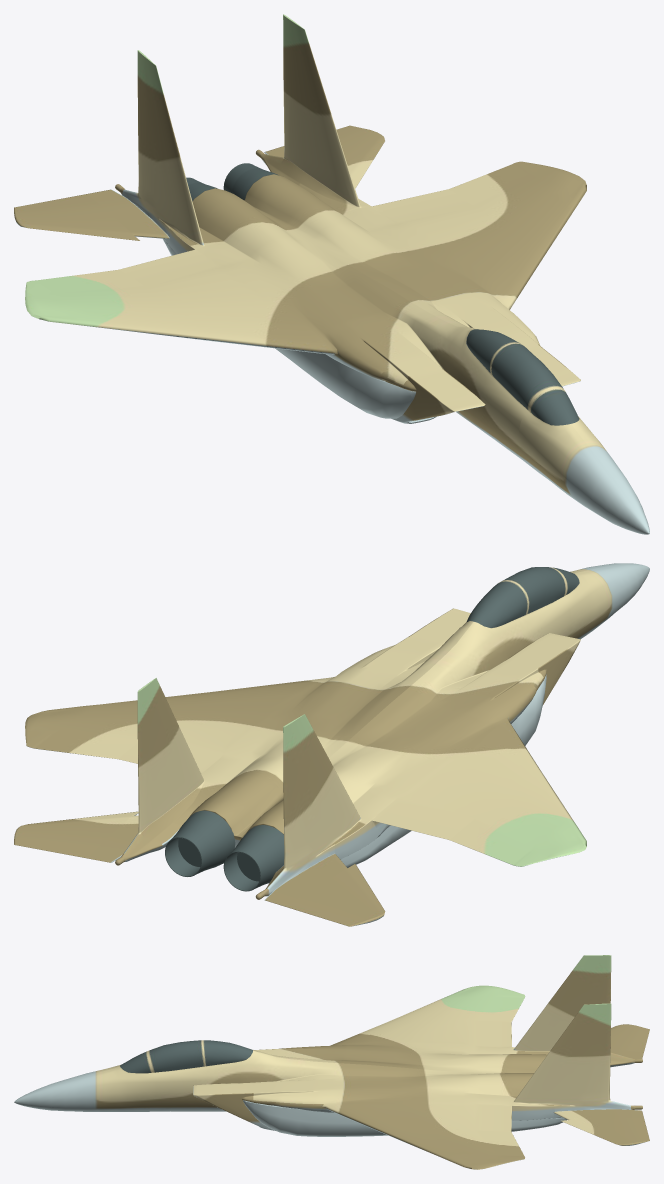
The model's file is F15Raam.fbx.
3 views of the same model, one above another, from view 1: azimuth 30°, elevation 25°; view 2: azimuth 150°, elevation 25°; view 3: azimuth 270°, elevation 25° (orthographic). The views are drawn at different scales.
Visible parts, largest first — view 1: polySurface1631, polySurface1225, polySurface1085, polySurface1087, polySurface1105, revolvedSurface2; view 2: polySurface1631, revolvedSurface2, revolvedSurface1, polySurface1225, polySurface1105, polySurface1085; view 3: polySurface1631, polySurface1216, polySurface1085, polySurface1105, polySurface1087.
Boxes of the visible parts, x1,y1,x2,y2 form: polySurface1631: (14, 14, 649, 534); polySurface1225: (163, 239, 415, 418); polySurface1085: (491, 343, 563, 409); polySurface1087: (530, 389, 579, 425); polySurface1105: (466, 329, 520, 372); revolvedSurface2: (223, 163, 278, 199); polySurface1631: (14, 563, 649, 926); revolvedSurface2: (165, 810, 235, 876); revolvedSurface1: (223, 825, 284, 891); polySurface1225: (341, 674, 546, 867); polySurface1105: (466, 581, 527, 627); polySurface1085: (501, 567, 565, 613); polySurface1631: (14, 955, 649, 1169); polySurface1216: (243, 1100, 566, 1136); polySurface1085: (149, 1040, 204, 1072); polySurface1105: (203, 1040, 252, 1066); polySurface1087: (120, 1051, 151, 1073).
Bounding box in the file's own units: 219 × 75.17 × 320.
